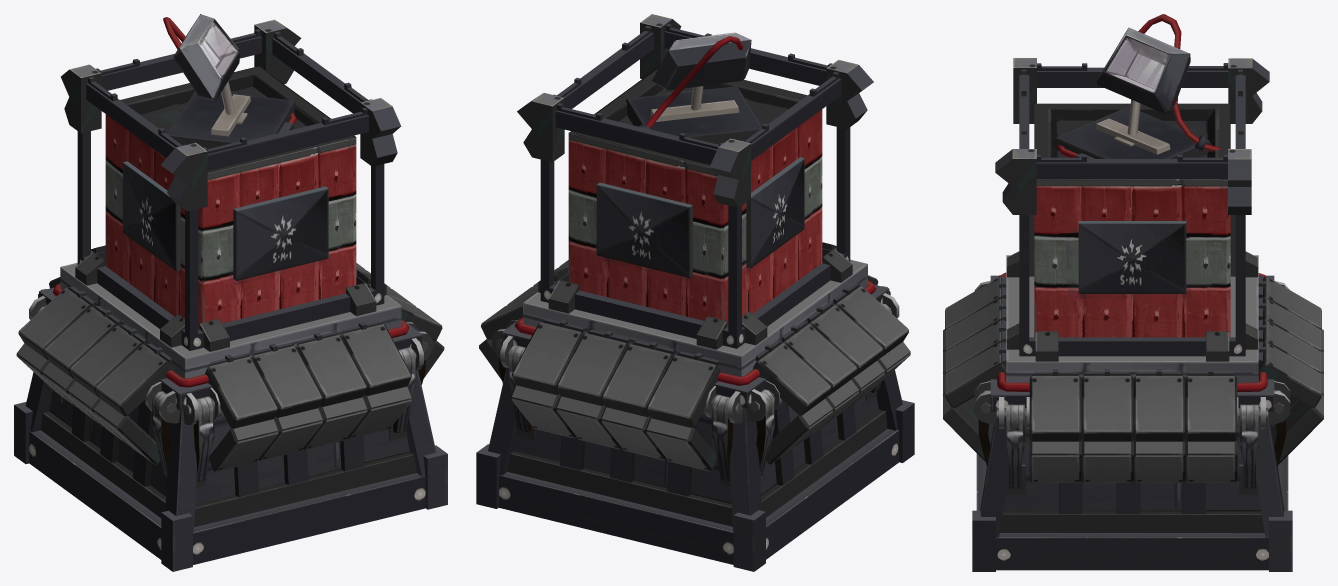
Rendered from trap_458_xbbarir_1.fbx.
3 renders of one model, left to right at view 1: azimuth 30°, elevation 25°; view 2: azimuth 150°, elevation 25°; view 3: azimuth 270°, elevation 25°, orthographic.
Parts seen in each view (by area): view 1: trap_458_xbbarir_1; view 2: trap_458_xbbarir_1; view 3: trap_458_xbbarir_1.
Boxes of the visible parts, x1,y1,x2,y2 form: trap_458_xbbarir_1: (14, 14, 447, 571); trap_458_xbbarir_1: (476, 14, 914, 571); trap_458_xbbarir_1: (943, 14, 1323, 571).
Size of the model in its own units: 0.9774 by 1.32 by 0.9774.
Materials: 1 (1 with a texture image).
